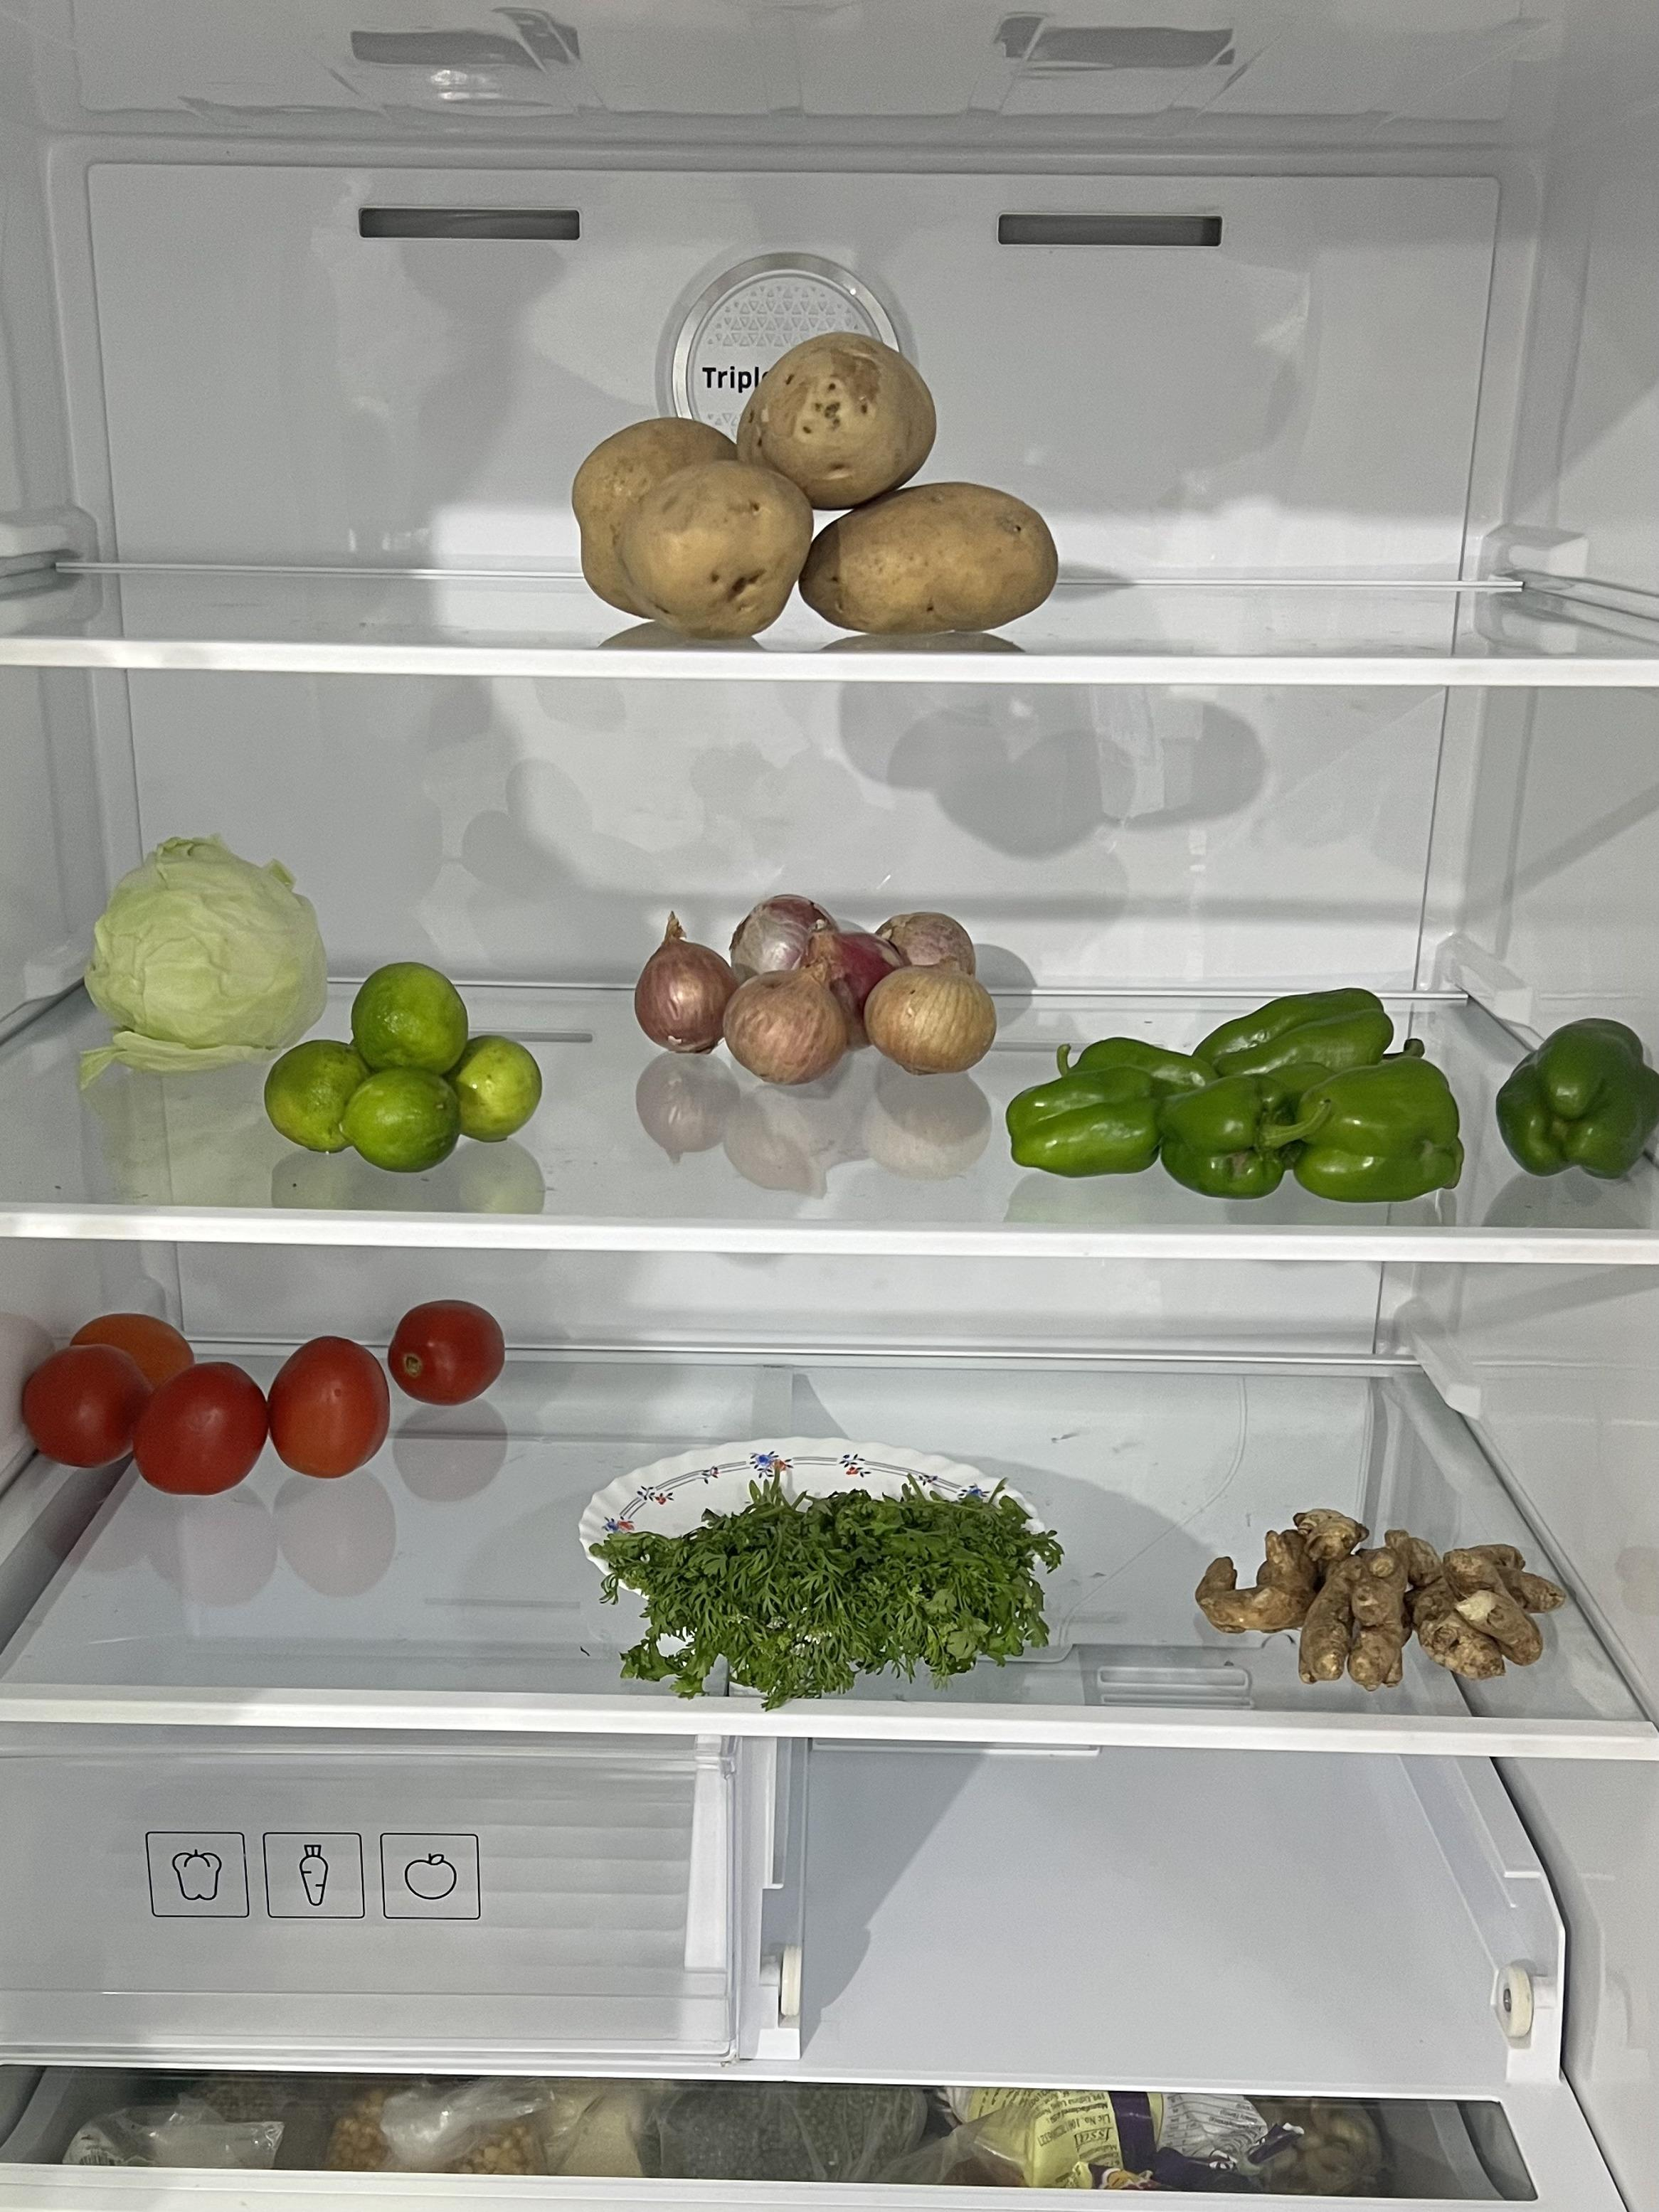cabbage: (89, 831, 317, 1061)
capsicum: (1006, 977, 1650, 1193)
coriander: (598, 1461, 1061, 1693)
ginger: (1201, 1505, 1560, 1688)
lemon: (265, 956, 544, 1172)
onion: (640, 883, 993, 1087)
potato: (577, 329, 1051, 631)
tomato: (28, 1285, 504, 1493)
